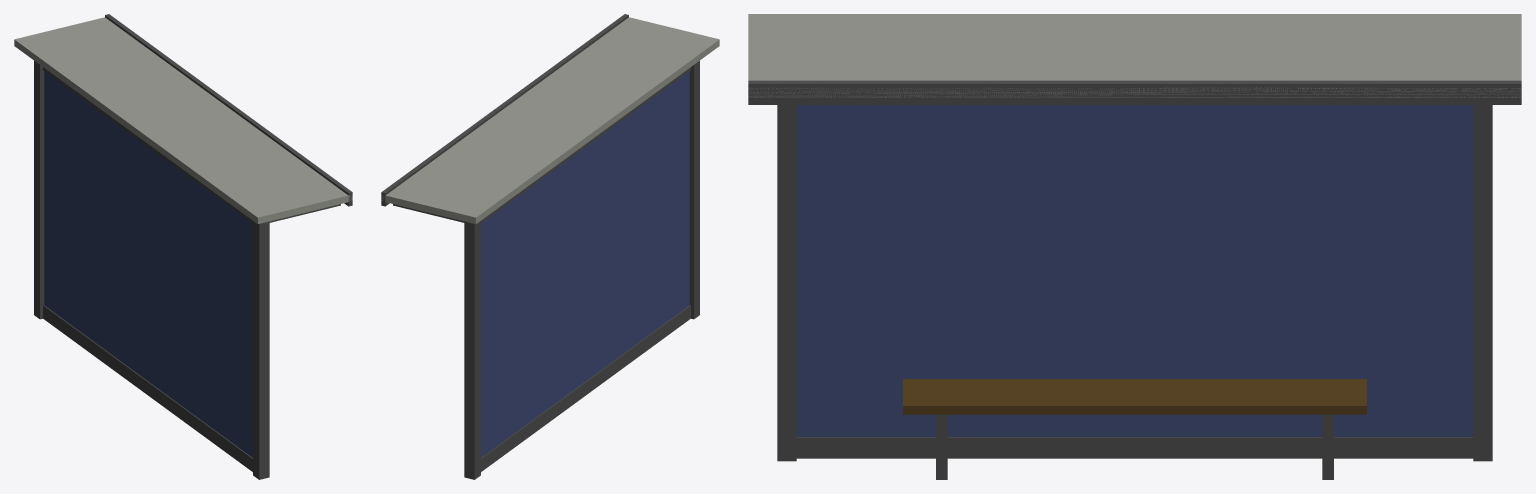
The model's file is lrt_shelter.fbx.
The picture shows the model from 3 angles, left to right: view 1: azimuth 30°, elevation 25°; view 2: azimuth 150°, elevation 25°; view 3: azimuth 270°, elevation 25°; orthographic projection. The views are drawn at different scales.
Parts seen in each view (by area): view 1: lrt_shelter.003; view 2: lrt_shelter.003; view 3: lrt_shelter.003.
Boxes of the visible parts, <box> form: lrt_shelter.003: <box>14,14,352,479</box>; lrt_shelter.003: <box>381,14,719,479</box>; lrt_shelter.003: <box>748,14,1521,479</box>.
Bounding box in the file's own units: 0.9 × 2.48 × 4.
